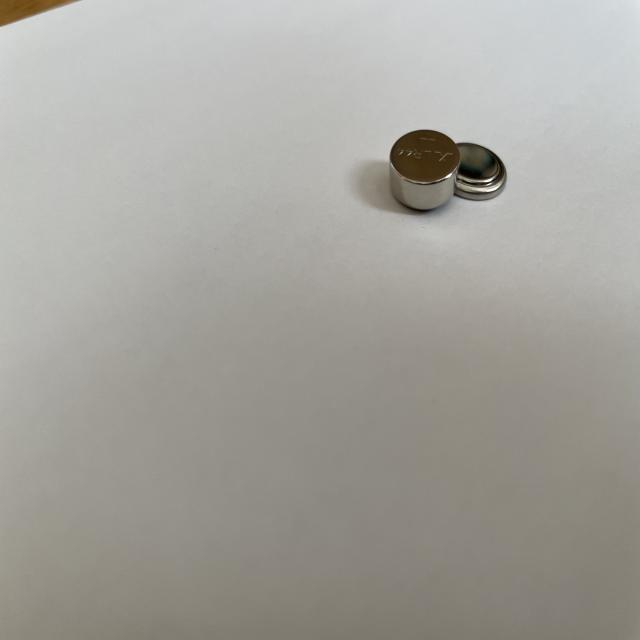COIN: (390, 130, 460, 212), (452, 142, 508, 202)
